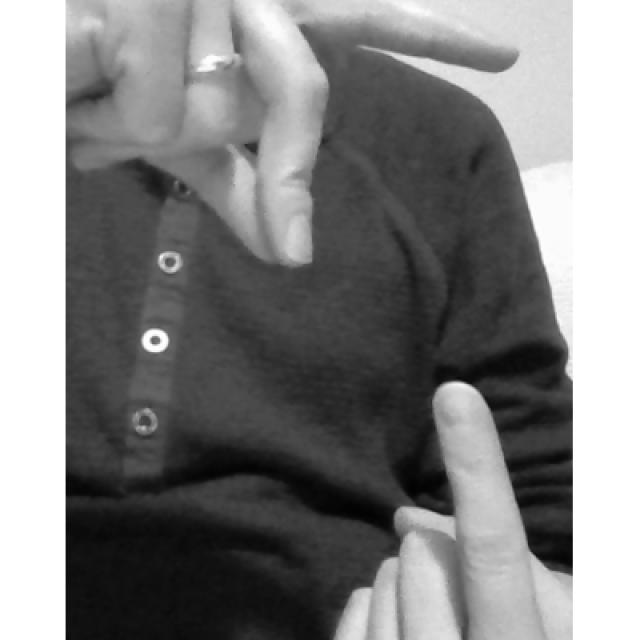I-: (69, 0, 572, 640)
